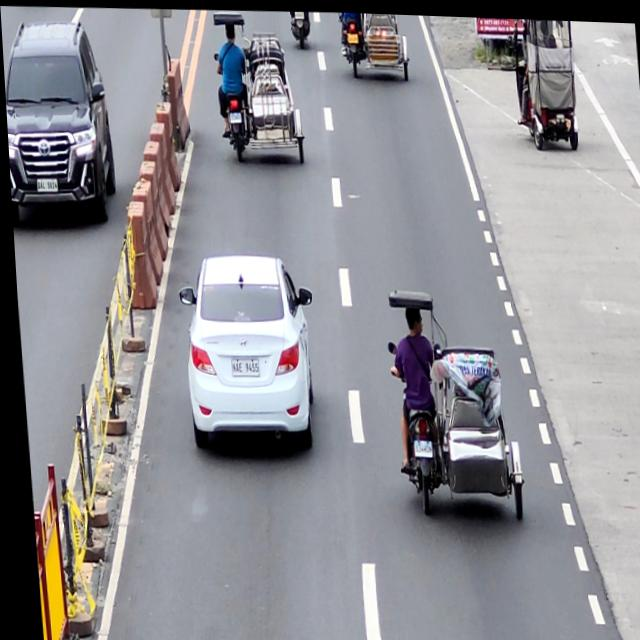Car: (171, 249, 319, 455)
E-bike: (509, 15, 579, 149)
License-Plate: (224, 355, 255, 376), (407, 437, 427, 454), (227, 111, 240, 122), (346, 31, 358, 42)
Tricycle: (379, 285, 520, 521), (211, 9, 305, 167), (338, 10, 410, 78)
